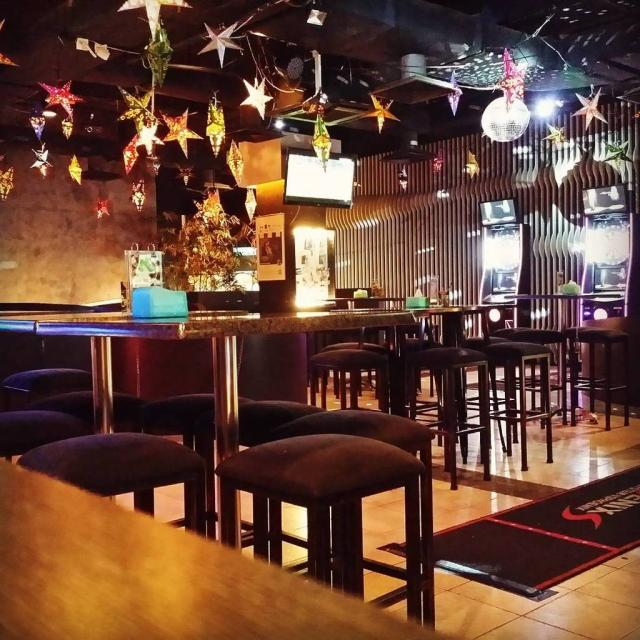Chair: (216, 392, 449, 605)
